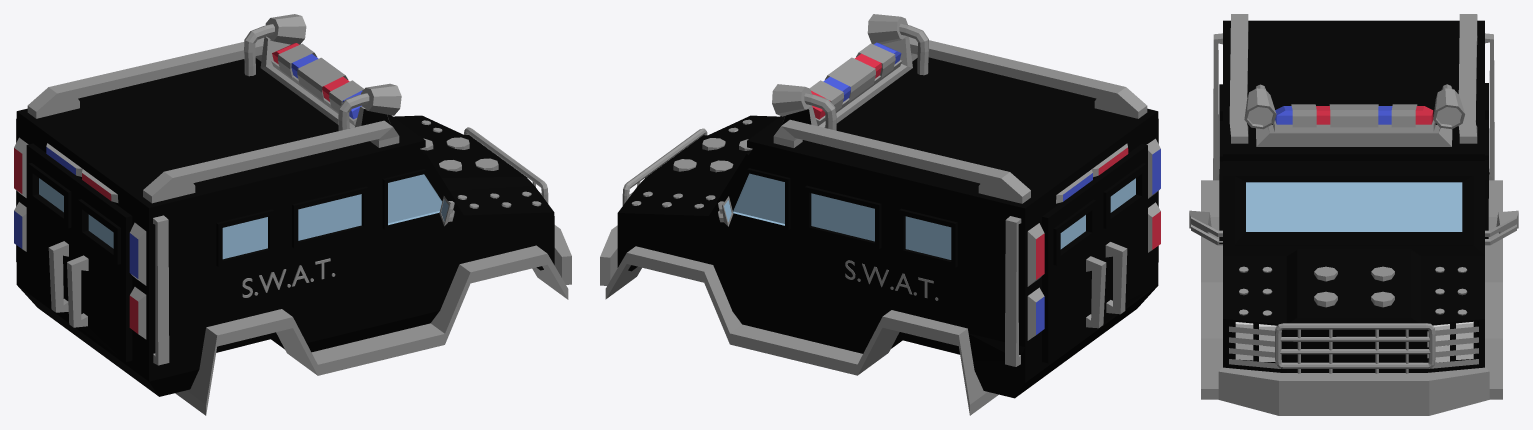
Rendered from SwatCar.fbx.
3 views of the same model, side by side, from view 1: azimuth 30°, elevation 25°; view 2: azimuth 150°, elevation 25°; view 3: azimuth 270°, elevation 25° (orthographic).
Parts seen in each view (by area): view 1: SwatCar; view 2: SwatCar; view 3: SwatCar.
Part boxes in pixels (x1,y1,x2,y2): SwatCar: [14, 14, 571, 415]; SwatCar: [600, 14, 1160, 415]; SwatCar: [1189, 14, 1518, 415].
Size of the model in its own units: 7.62 by 8.86 by 14.25.
